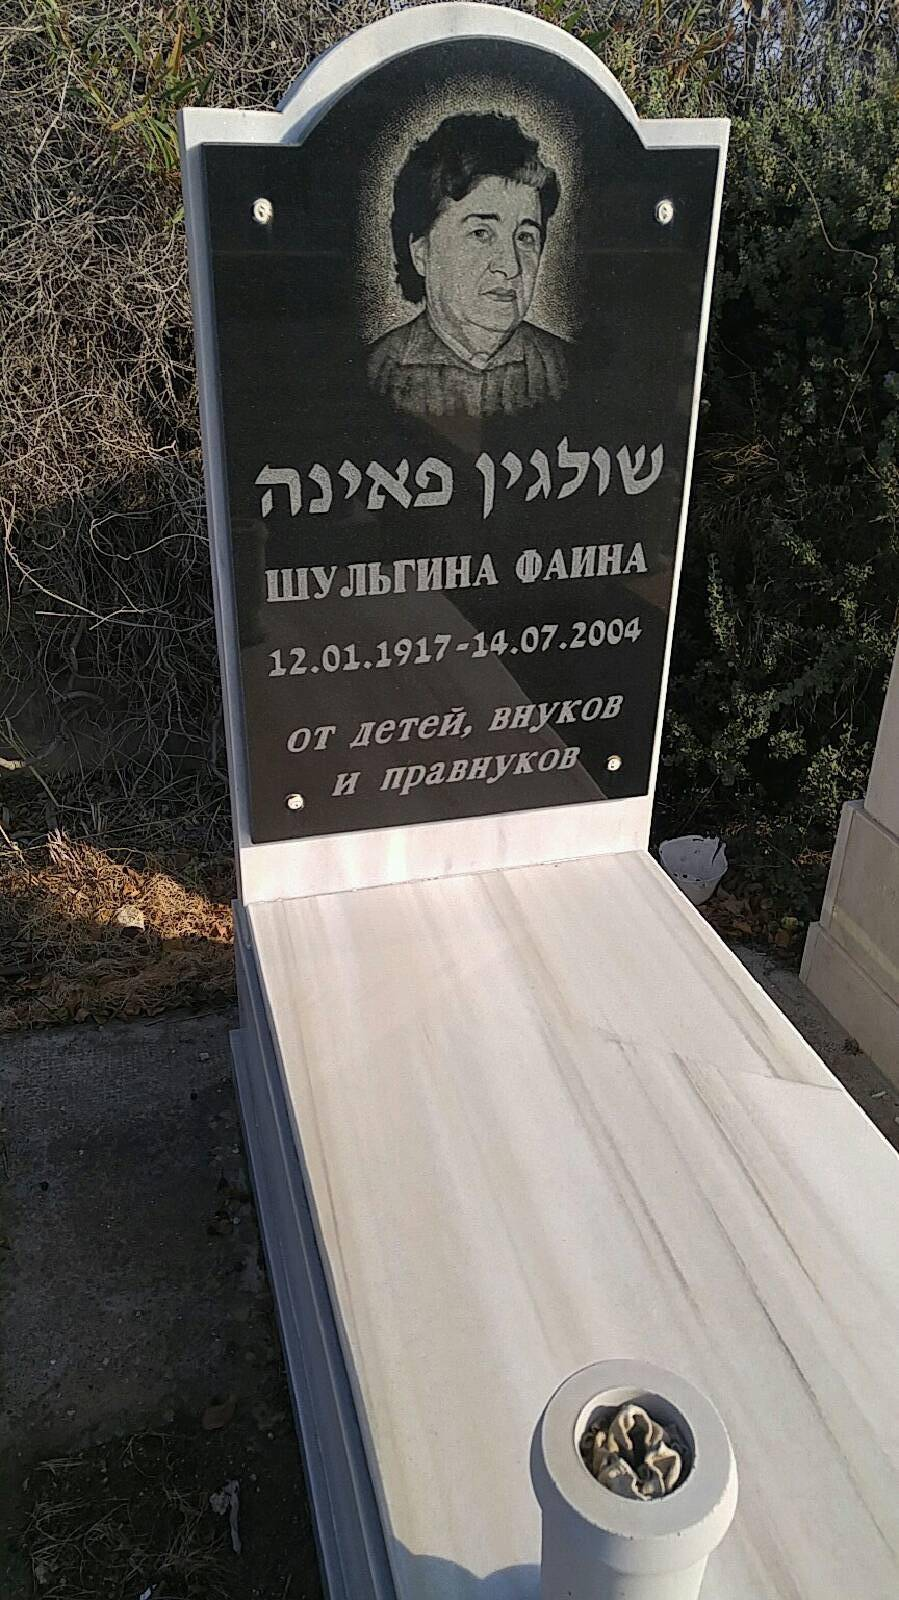upright: (126, 21, 739, 919)
